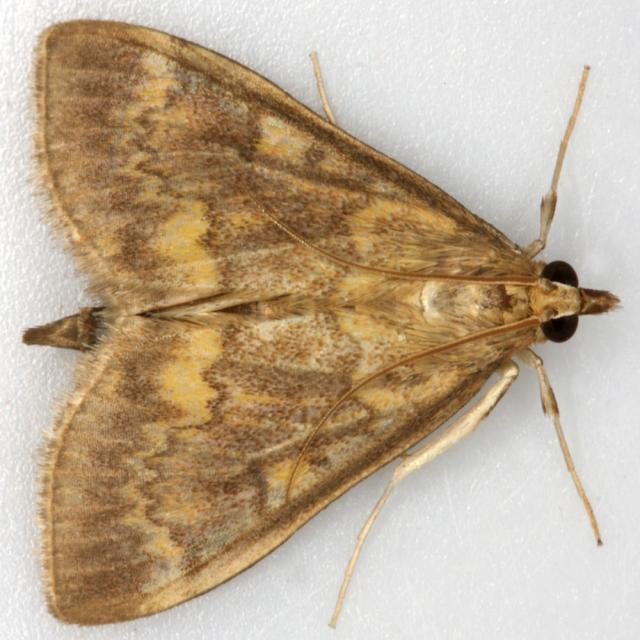cornborer-Adult-: (18, 17, 619, 619)
